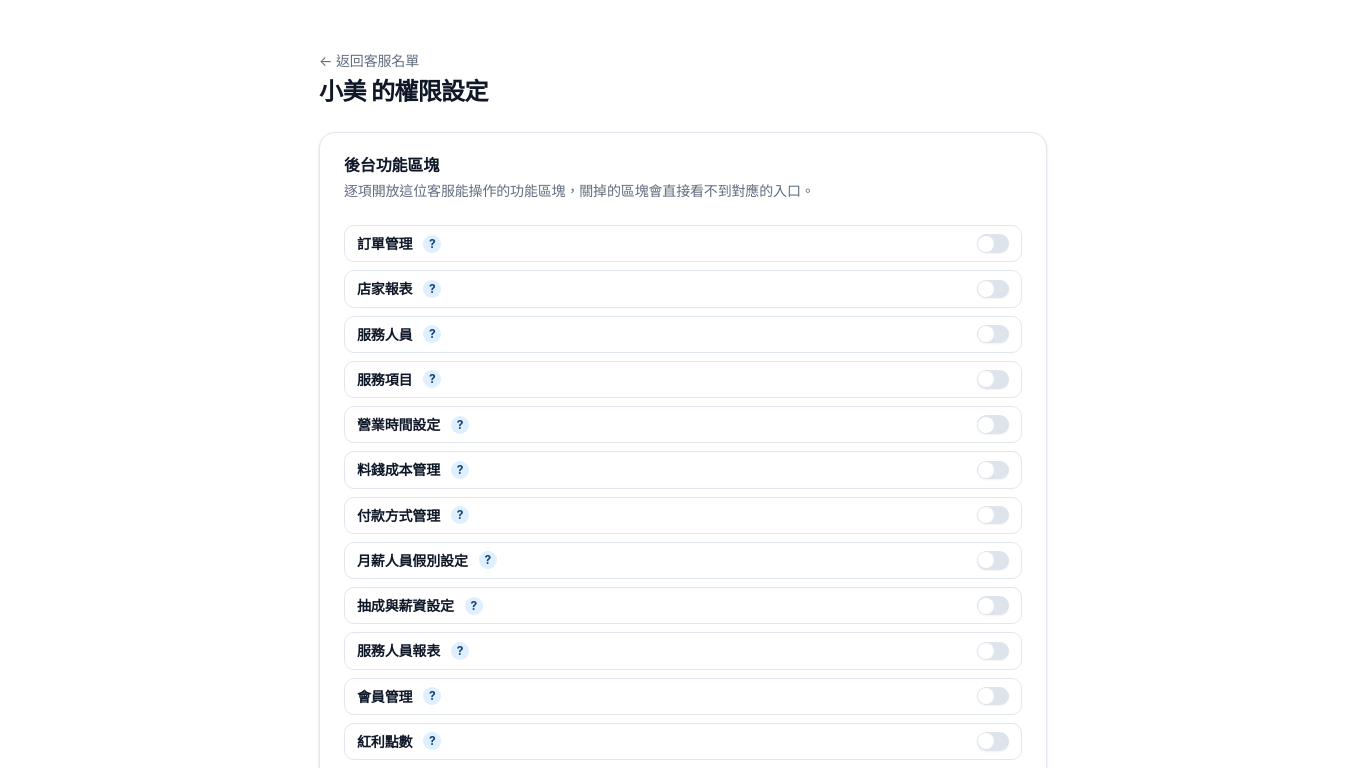
Test: 第 11 批 E:相依權限小卡窗 › ① 全關,點「料錢成本管理」⇒ 跳小卡窗,恰好 2 項;開關仍是關的、API 沒被呼叫
What coordinates should you click on to do the following:
click the switch named "料錢成本管理" in the row of "料錢成本管理"
I would click on:
 (993, 470)
Its box is [977,461,1009,479].
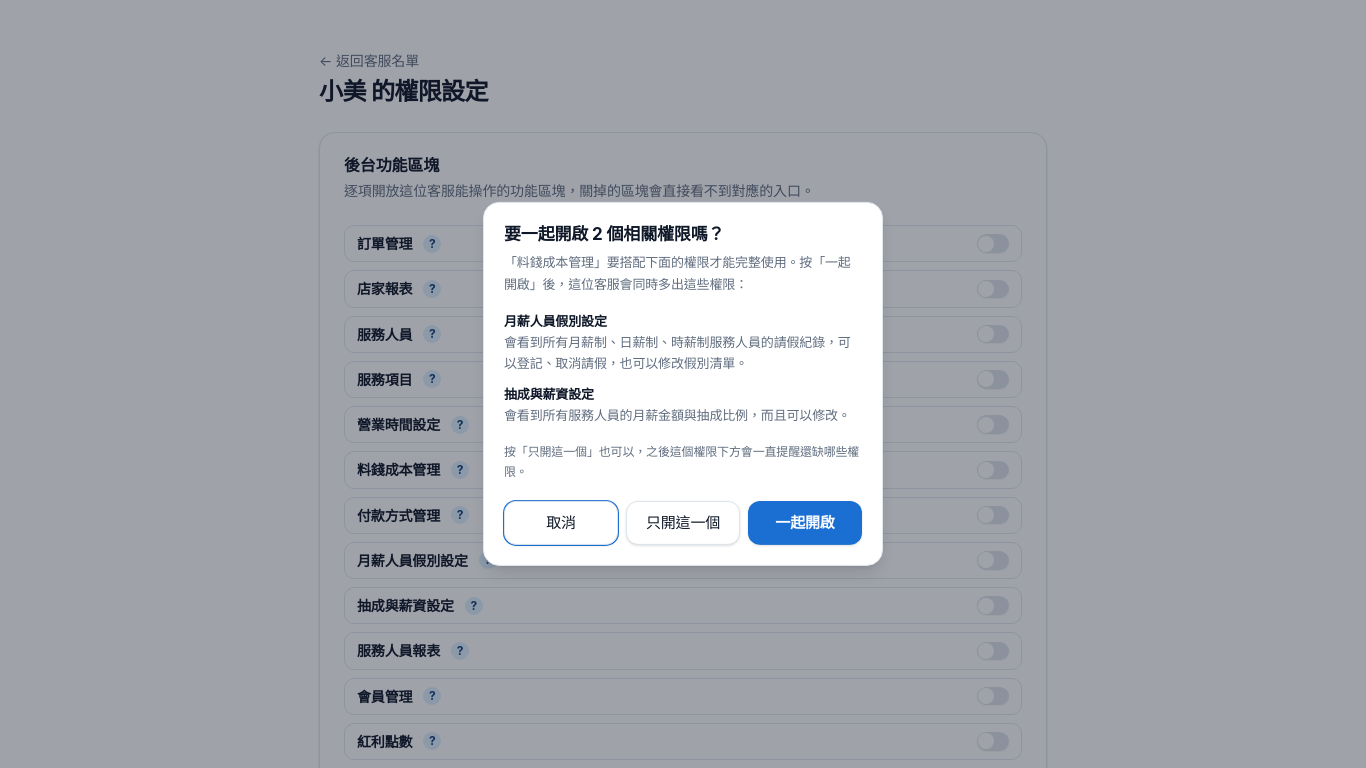
Now the heading "要一起開啟 2 個相關權限嗎？" is shown, box [504,224,724,244]
Now the list item with test id "agent-permission-dependency-item-commission_settings" shows "抽成與薪資設定", box [504,386,594,402]
Now the list item with test id "agent-permission-dependency-item-team_leave" shows "月薪人員假別設定", box [504,312,607,328]
